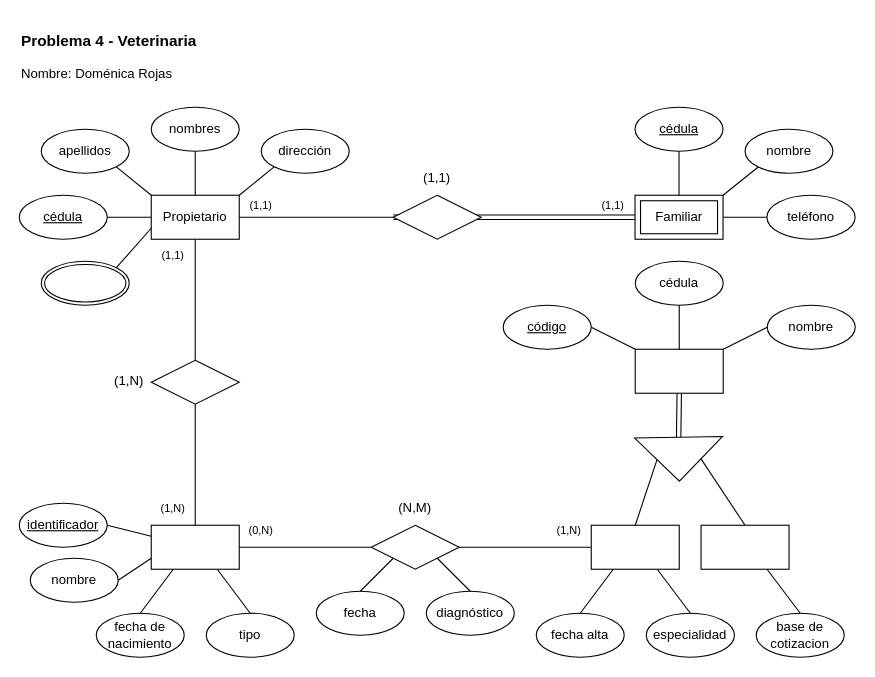
The diagram is 875 pixels wide and 677 high, and some of its shapes have lost their labels. Here are the shapes that lost their labels. From the top down, the box of each, then its label:
(392, 194, 481, 239): tiene
(40, 260, 129, 305): teléfonos
(150, 359, 239, 404): lleva
(634, 348, 723, 393): Personal
(150, 524, 239, 569): Mascota
(370, 524, 459, 569): consulta
(590, 524, 679, 569): Veterinario
(700, 524, 789, 569): Auxiliar
